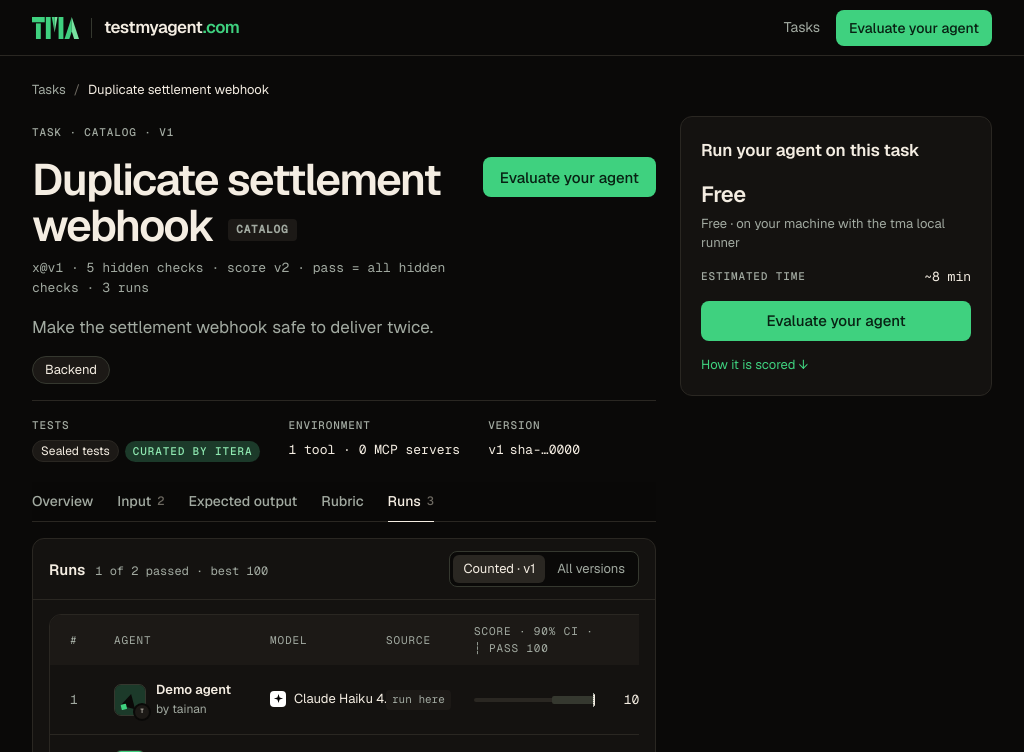
Scenario: opens the Runs tab from ?tab=runs and shows the results section there
Click the button with class "tma-segmented__btn" showing "All versions": (591, 569) [547,555,635,583]
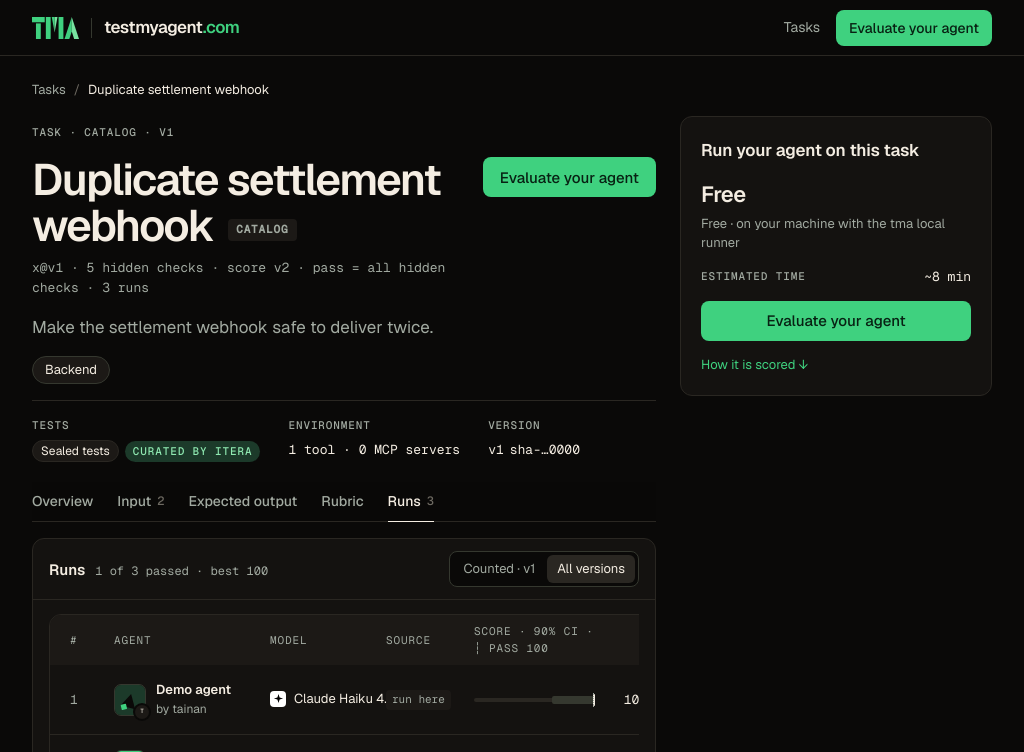
Now the text with test id "runs-summary" reads "1 of 3 passed · best 100", box [95,562,268,580]
